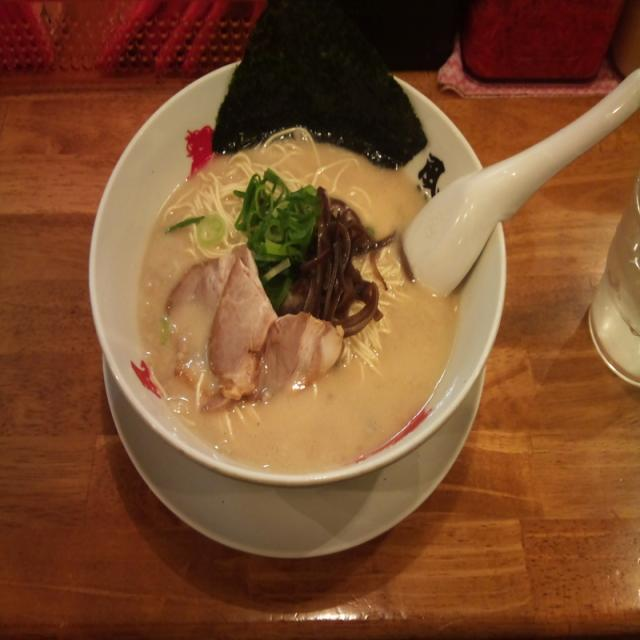面条主食: (115, 73, 483, 478)
